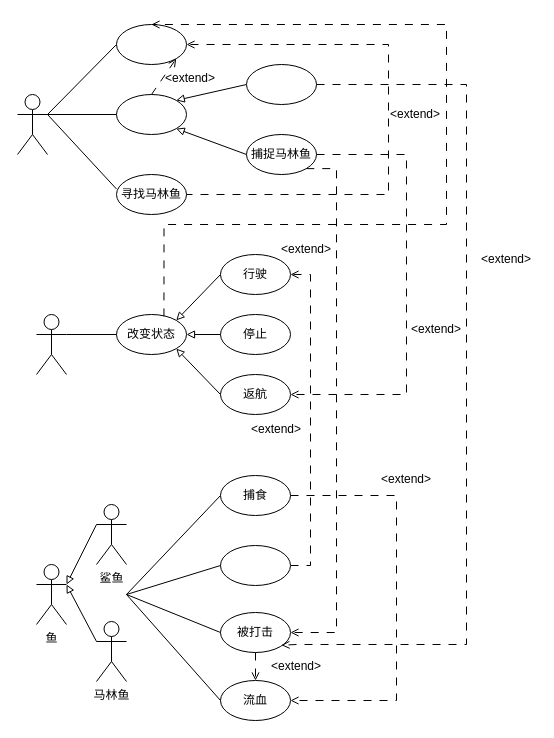
The diagram is 554 pixels wide and 738 high, and some of its shapes have lost their labels. The shapes that lost their labels are listed below. From the top down, each one's box as (x1, y1, x2, y2) in pixels, then its label:
(116, 24, 186, 64): 操作船只
(246, 64, 316, 104): 攻击鲨鱼
(16, 94, 48, 154): 渔夫
(116, 94, 186, 134): 攻击
(36, 314, 66, 374): 小船
(220, 544, 290, 586): 游动
